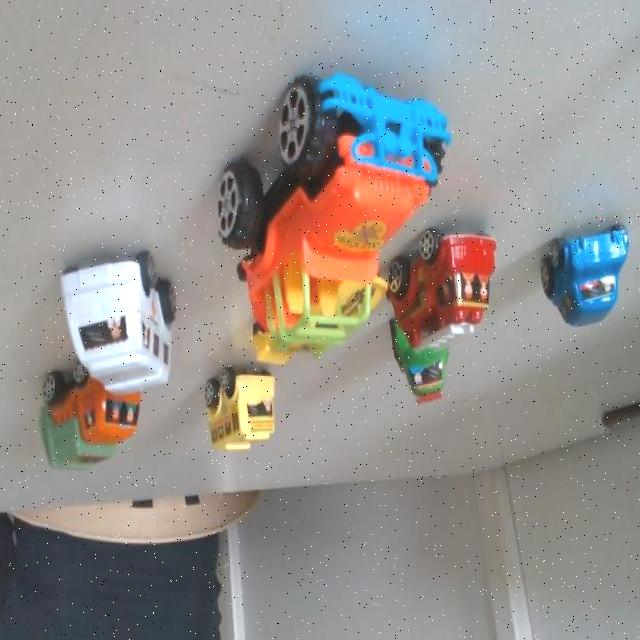car: (312, 68, 460, 253), (540, 204, 640, 338), (71, 263, 182, 383), (276, 253, 392, 364), (417, 215, 506, 348), (58, 359, 153, 474), (400, 314, 464, 402), (226, 372, 284, 456)
